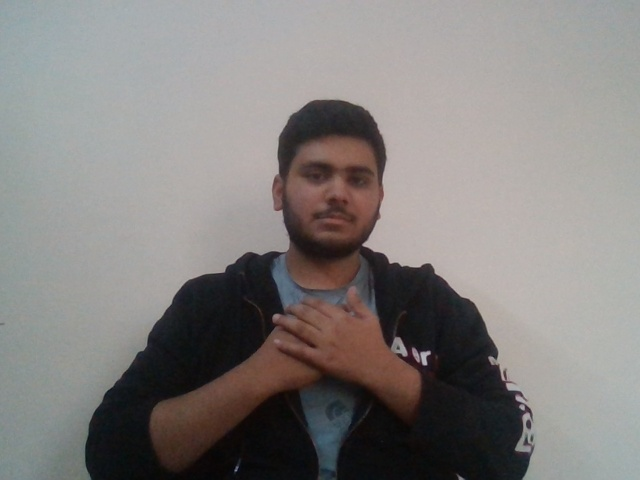Please: (256, 286, 387, 386)
